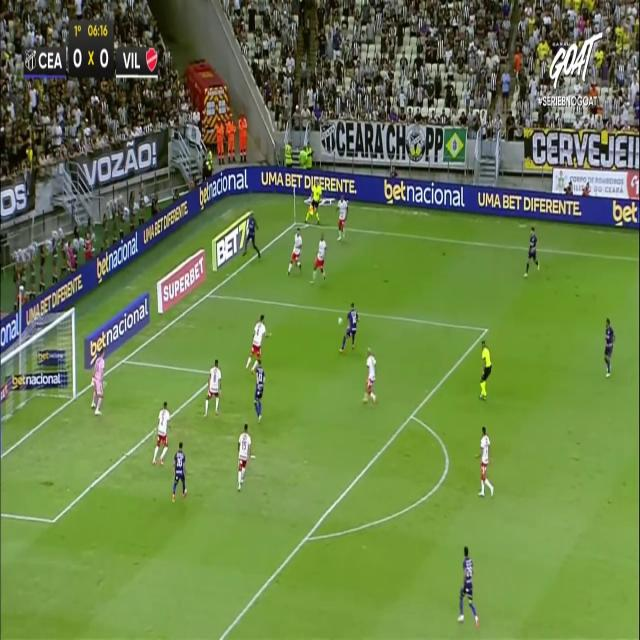ball: (338, 316, 342, 324)
goalkeeper: (90, 346, 106, 414)
player: (457, 545, 479, 627), (245, 314, 271, 371), (474, 426, 494, 497), (152, 400, 170, 465), (236, 422, 252, 491), (203, 357, 221, 417), (339, 301, 359, 353), (171, 441, 187, 501), (251, 355, 265, 422), (309, 232, 327, 284), (242, 210, 260, 258), (362, 346, 376, 404), (524, 226, 540, 276), (286, 227, 302, 276), (603, 316, 615, 377), (336, 194, 348, 240)
referee: (303, 177, 323, 226), (478, 339, 492, 400)
